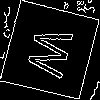W: (25, 25, 84, 82)
